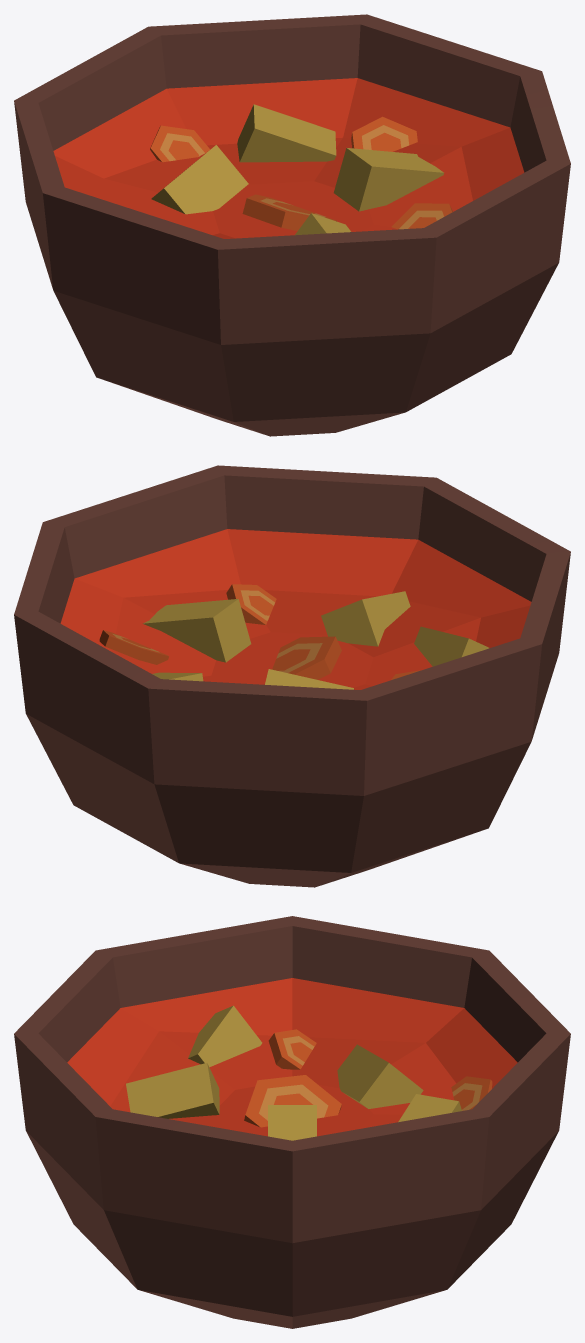
Rendered from Soup.fbx.
The picture shows the model from 3 angles, top to bottom: view 1: azimuth 30°, elevation 25°; view 2: azimuth 150°, elevation 25°; view 3: azimuth 270°, elevation 25°; orthographic projection. The views are drawn at different scales.
Visible parts, largest first — view 1: Veggie_Soup; view 2: Veggie_Soup; view 3: Veggie_Soup.
Boxes of the visible parts, box(x1,y1,x2,y2) form: Veggie_Soup: box(14, 14, 570, 436); Veggie_Soup: box(14, 465, 570, 887); Veggie_Soup: box(14, 916, 570, 1328).
Bounding box in the file's own units: 2 × 1.03 × 2.
